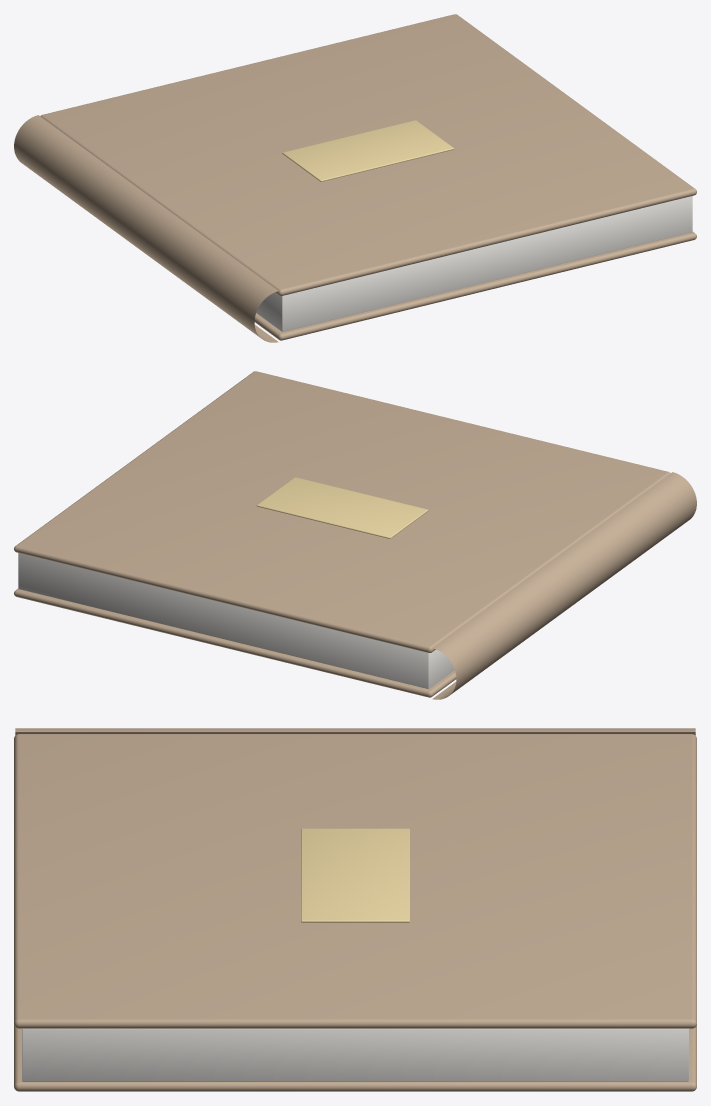
The model's file is plate--square.glb.
3 views of the same model, one above another, from view 1: azimuth 30°, elevation 25°; view 2: azimuth 150°, elevation 25°; view 3: azimuth 270°, elevation 25° (orthographic). The views are drawn at different scales.
Parts seen in each view (by area): view 1: CoverFront, Pages, Spine, Plate, CoverBack; view 2: CoverFront, Pages, Spine, Plate, CoverBack; view 3: CoverFront, Pages, Plate, CoverBack, Spine.
Boxes of the visible parts, x1=… form: CoverFront: x1=40, y1=14, x2=696, y2=295; Pages: x1=256, y1=196, x2=692, y2=331; Spine: x1=14, y1=115, x2=278, y2=342; Plate: x1=282, y1=120, x2=454, y2=181; CoverBack: x1=254, y1=232, x2=696, y2=340; CoverFront: x1=14, y1=371, x2=670, y2=652; Pages: x1=18, y1=553, x2=454, y2=688; Spine: x1=432, y1=472, x2=696, y2=699; Plate: x1=256, y1=477, x2=428, y2=538; CoverBack: x1=14, y1=589, x2=456, y2=697; CoverFront: x1=14, y1=734, x2=696, y2=1028; Pages: x1=22, y1=1028, x2=688, y2=1081; Plate: x1=301, y1=828, x2=409, y2=922; CoverBack: x1=14, y1=1025, x2=696, y2=1091; Spine: x1=15, y1=728, x2=695, y2=735.
Bounding box in the file's own units: 0.3179 × 0.0361 × 0.3.
